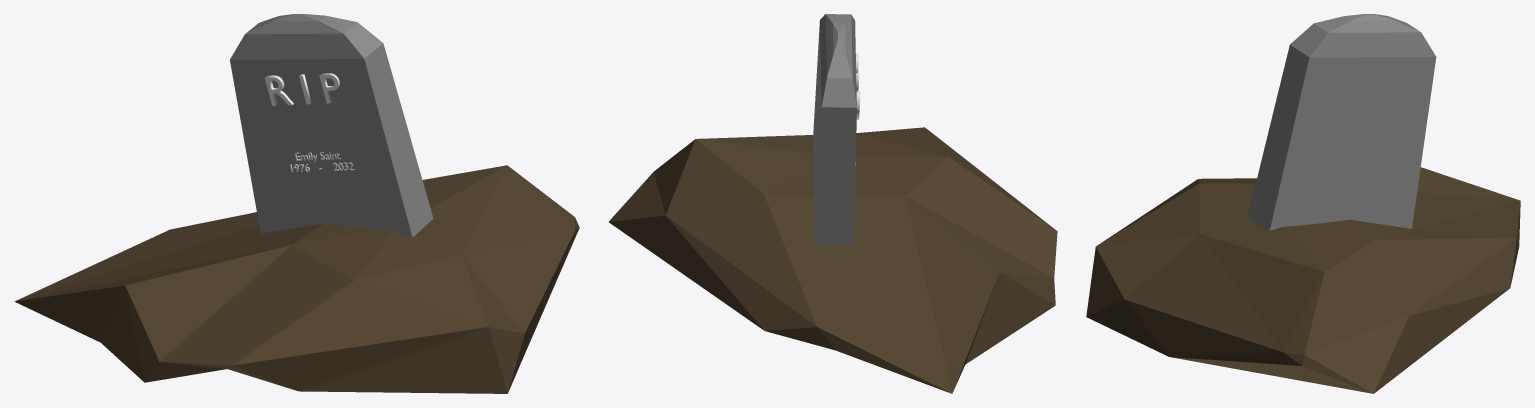
The model's file is emilyTombstone.fbx.
The picture shows the model from 3 angles, left to right: view 1: azimuth 30°, elevation 25°; view 2: azimuth 150°, elevation 25°; view 3: azimuth 270°, elevation 25°; orthographic projection. The views are drawn at different scales.
Visible parts, largest first — view 1: EMILY, Text.004; view 2: EMILY; view 3: EMILY.
Part boxes in pixels (bbox=[...]): EMILY: bbox=[14, 14, 579, 393]; Text.004: bbox=[264, 73, 339, 105]; EMILY: bbox=[609, 14, 1057, 393]; EMILY: bbox=[1086, 14, 1520, 393].
Size of the model in its own units: 264 by 169 by 224.
